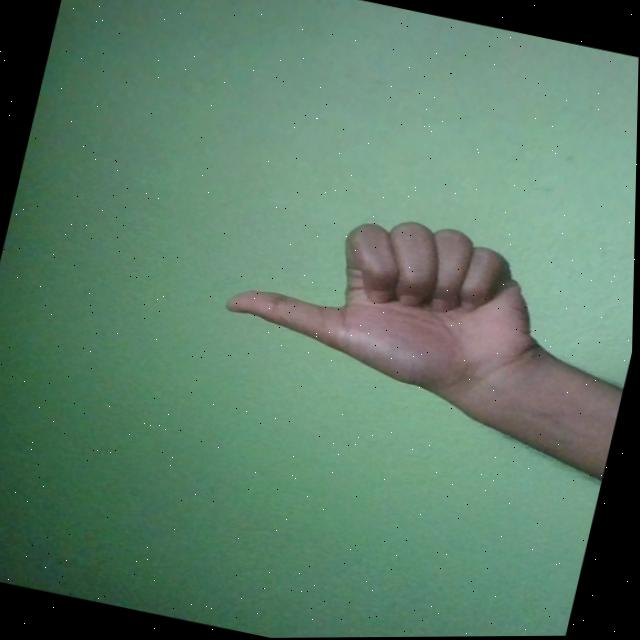Good Job: (214, 183, 563, 412)
